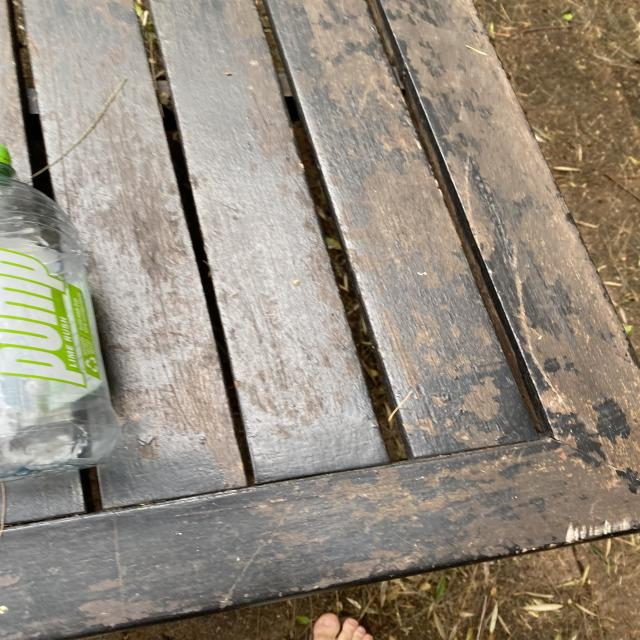bottle: (2, 143, 117, 484)
